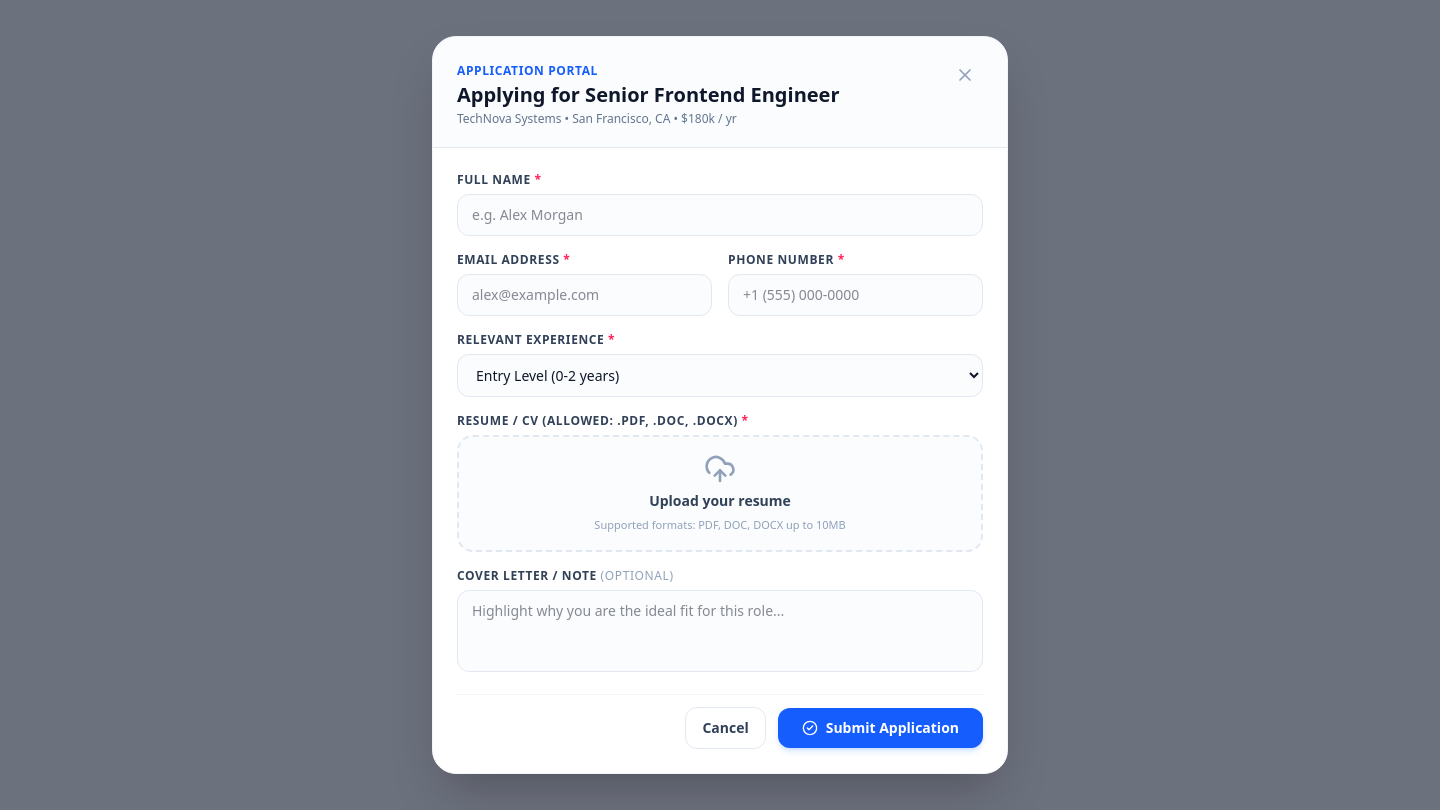
BUG-06 — Required-field validation guard (handleSubmit) › BUG-06-A: submitting with only fullName filled should be blocked
Fill only fullName
Type "Alice" into the field with placeholder "e.g. Alex Morgan". click: (720,215)
box: [457,194,983,236]
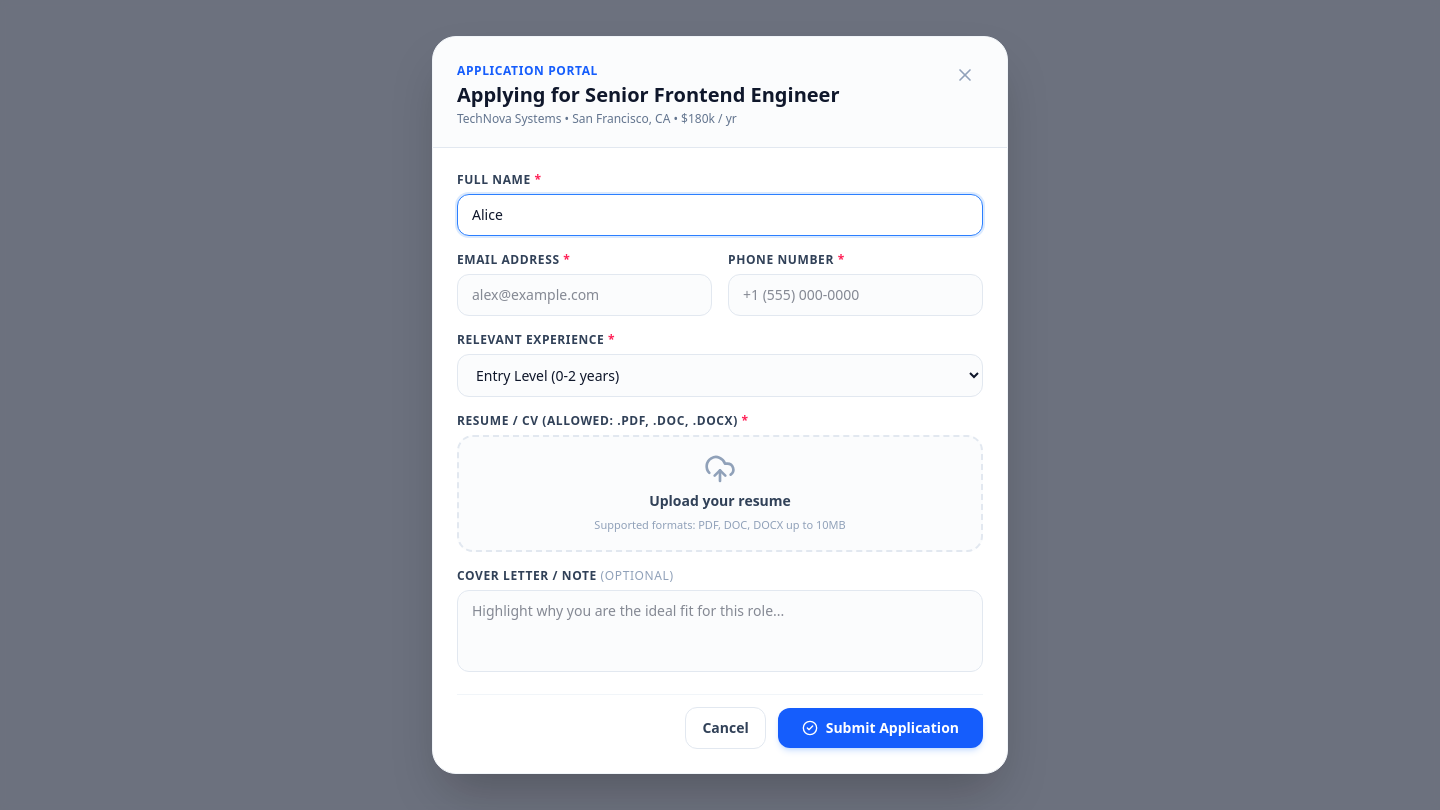
Click the button "Submit Application". click: (880,728)
box: [778,708,983,748]
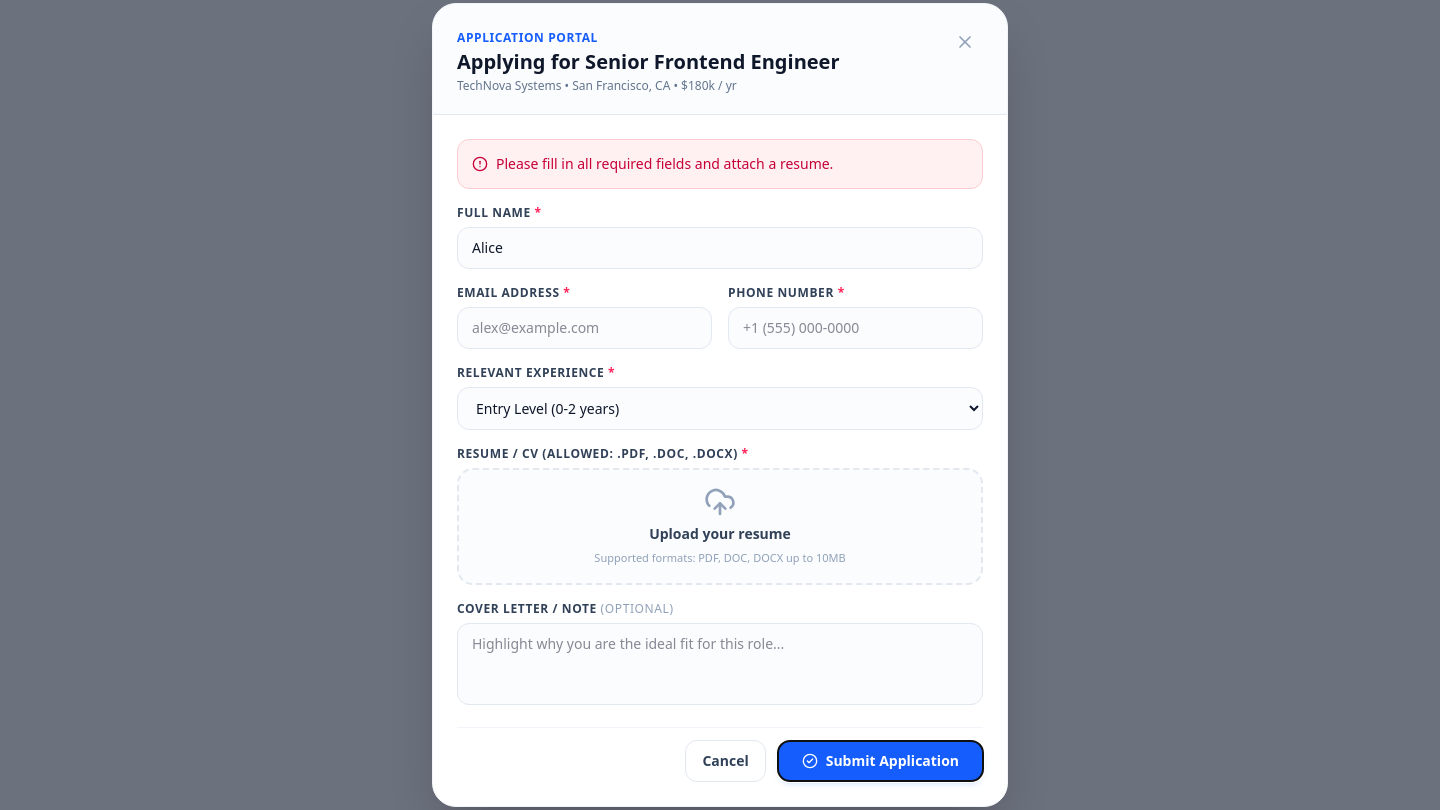
Expected: the text "Please fill in all required fields and attach a resume." is shown, [496,154,833,174]
